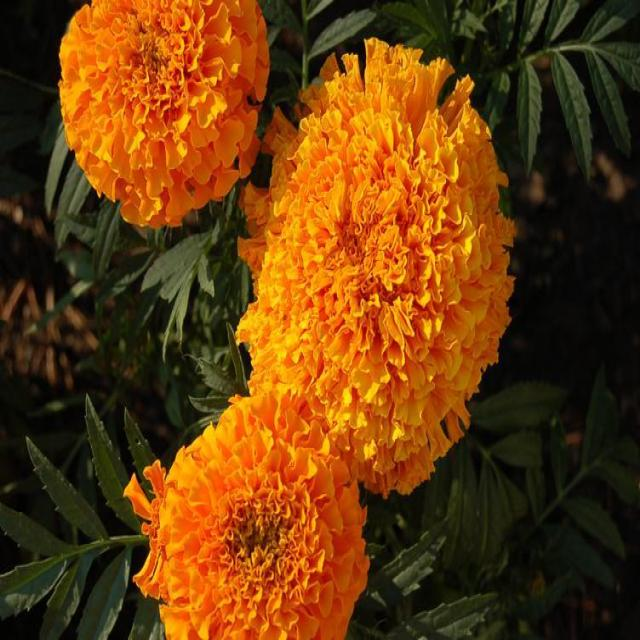marigold: (22, 2, 539, 613)
